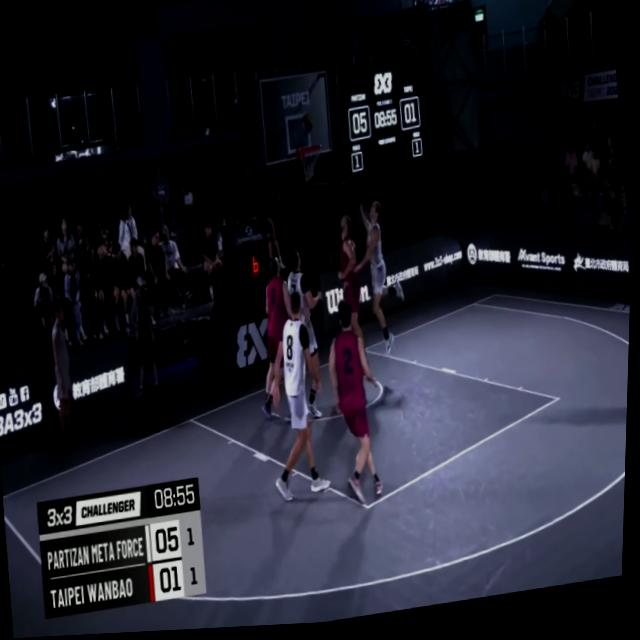ball: (300, 113, 316, 140)
hoop: (296, 145, 325, 189)
player: (257, 289, 338, 508), (320, 297, 391, 513), (272, 241, 338, 428), (348, 198, 414, 361), (249, 257, 304, 428), (330, 216, 374, 371)
